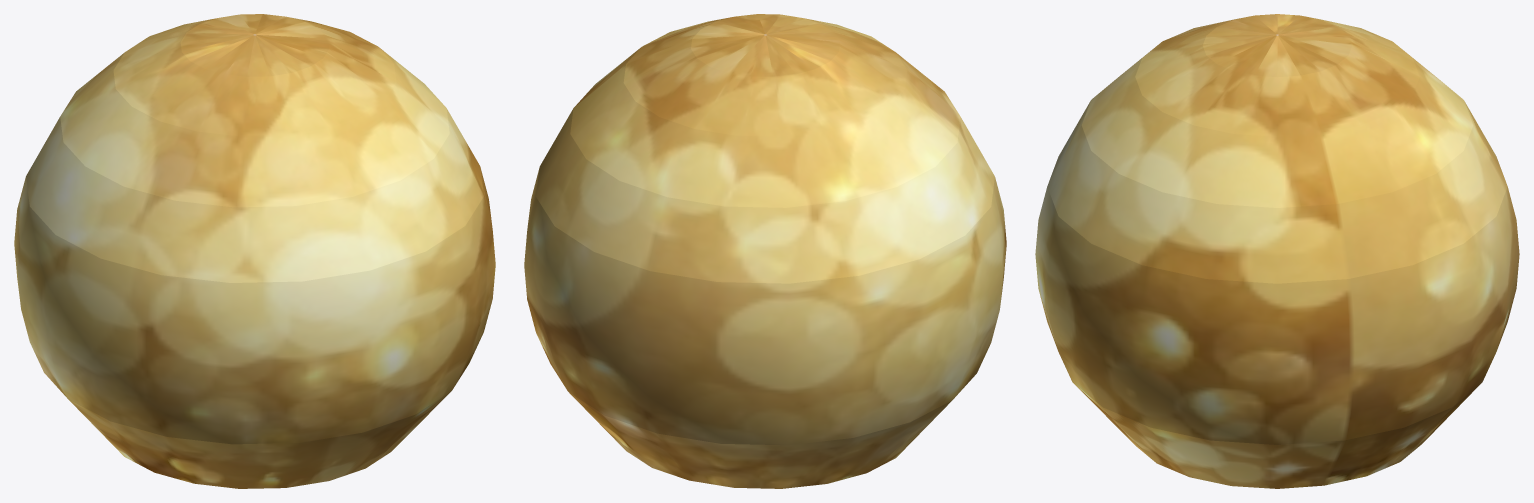
File: bowl.obj
3 views of the same model, side by side, from view 1: azimuth 30°, elevation 25°; view 2: azimuth 150°, elevation 25°; view 3: azimuth 270°, elevation 25° (orthographic).
Parts seen in each view (by area): view 1: bowl:group bowl:group2 bowl:pSphere2 bowl:polySurface2 bowl:poly; view 2: bowl:group bowl:group2 bowl:pSphere2 bowl:polySurface2 bowl:poly; view 3: bowl:group bowl:group2 bowl:pSphere2 bowl:polySurface2 bowl:poly.
Boxes of the visible parts, bbox=[...] form: bowl:group bowl:group2 bowl:pSphere2 bowl:polySurface2 bowl:poly: bbox=[14, 14, 495, 488]; bowl:group bowl:group2 bowl:pSphere2 bowl:polySurface2 bowl:poly: bbox=[524, 14, 1006, 488]; bowl:group bowl:group2 bowl:pSphere2 bowl:polySurface2 bowl:poly: bbox=[1035, 14, 1519, 488].
Bounding box in the file's own units: 5.84 × 5.21 × 5.84.
Materials: 1 (1 with a texture image).
